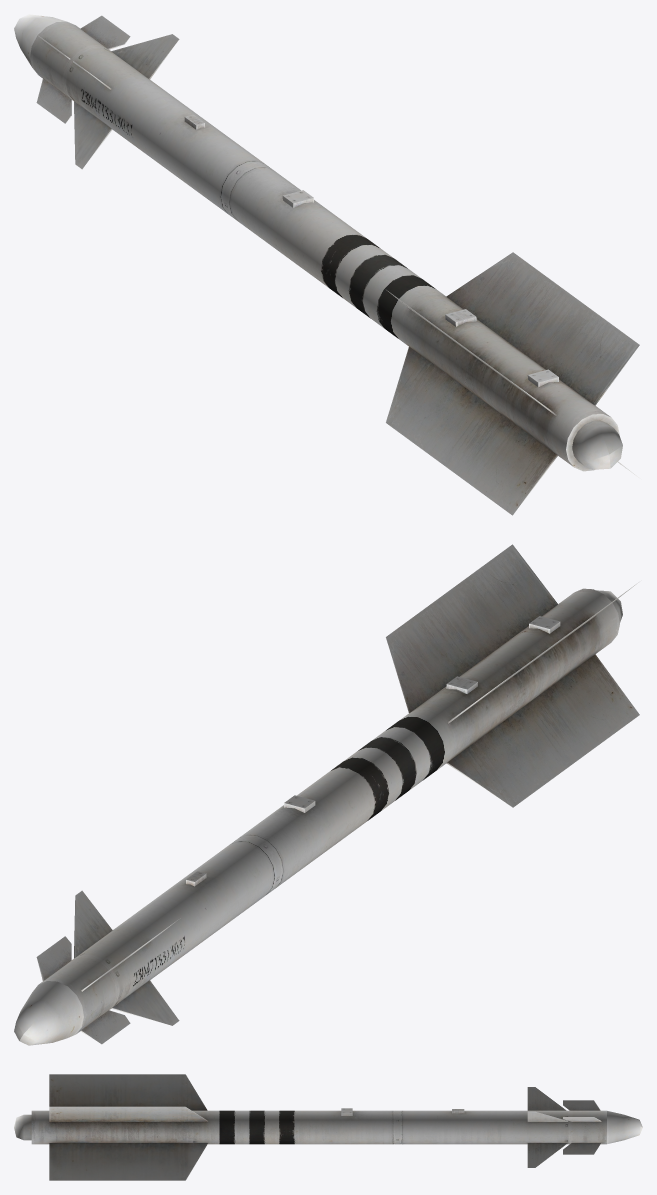
The model's file is missile.glb.
The picture shows the model from 3 angles, top to bottom: view 1: azimuth 30°, elevation 25°; view 2: azimuth 150°, elevation 25°; view 3: azimuth 270°, elevation 25°; orthographic projection. The views are drawn at different scales.
Visible parts, largest first — view 1: R-27; view 2: R-27; view 3: R-27.
Part boxes in pixels (<box>): R-27: <box>14,14,639,515</box>; R-27: <box>14,544,639,1045</box>; R-27: <box>14,1074,642,1180</box>.
Bounding box in the file's own units: 0.3942 × 0.3942 × 3.
1 material, 1 textured.
